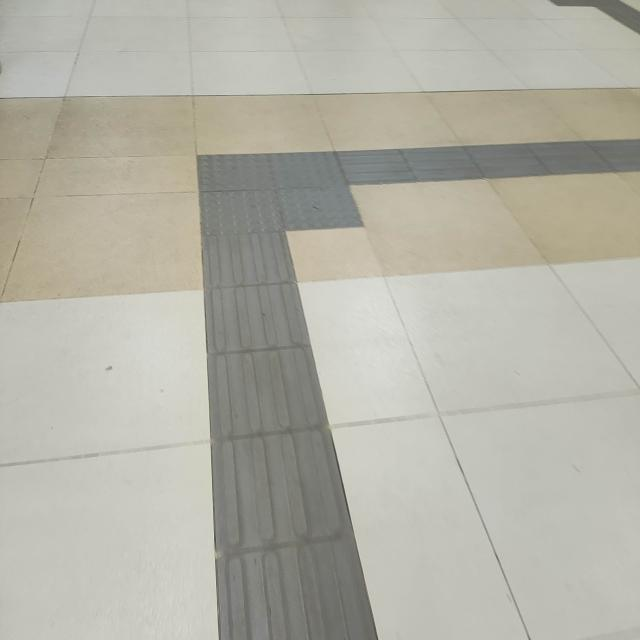kanan: (135, 98, 498, 299)
